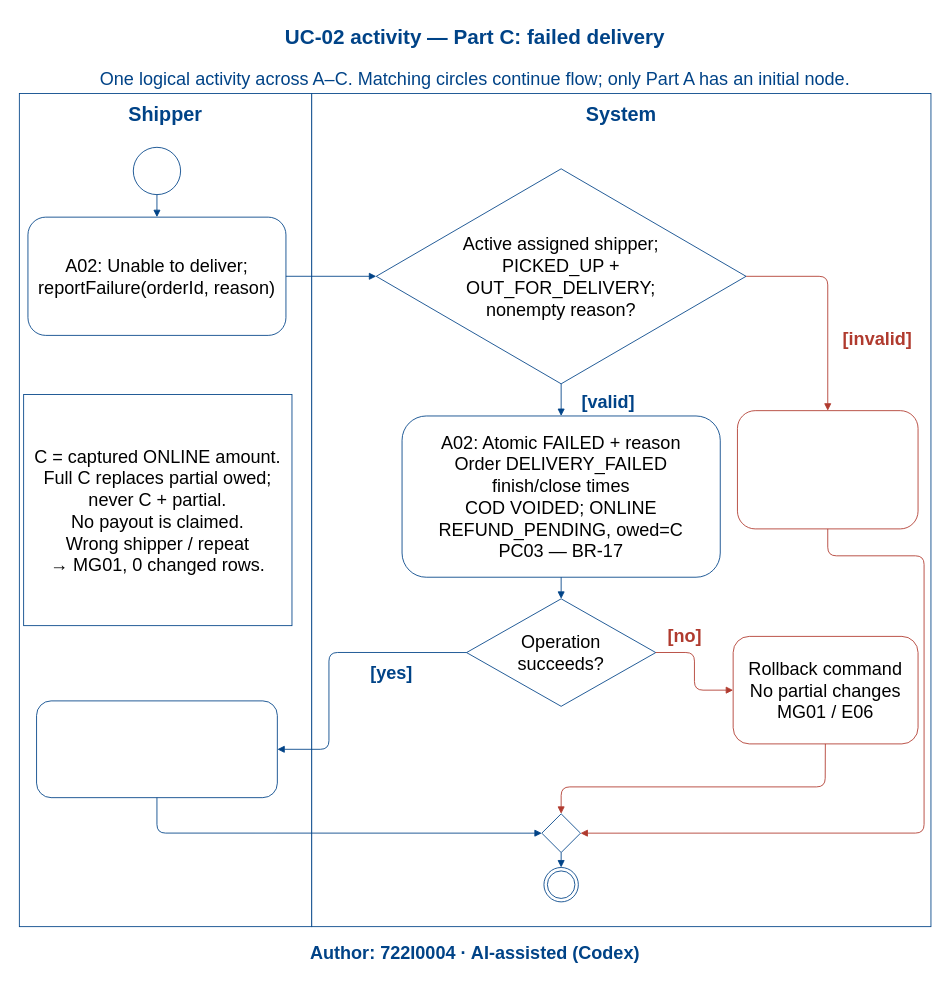
This 949x982 diagram has some shape labels left out. Each missing label, with the box of its shape:
6: Read failed result Request ends: (36, 700, 277, 798)
FL: (132, 146, 181, 195)
Refuse; no changes MG01 / E01–E05: (737, 410, 918, 529)
